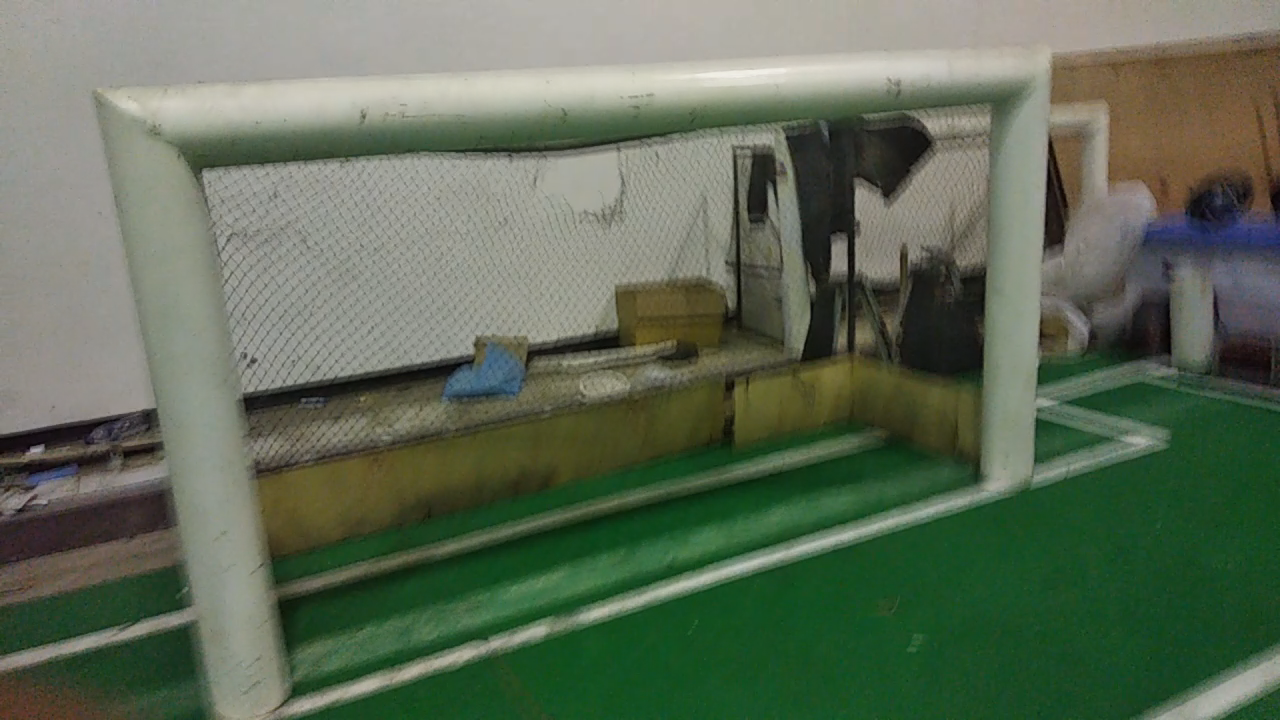gawang: (80, 36, 1064, 719)
